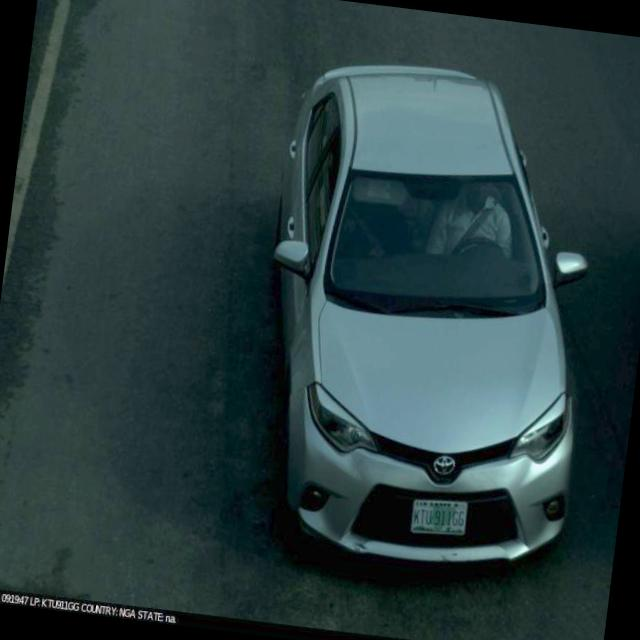person_with_seatbelt: (410, 166, 530, 294)
